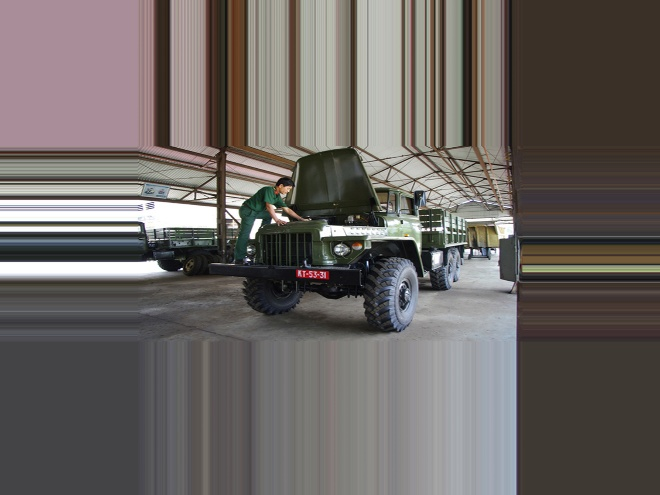plate: (294, 267, 330, 283)
